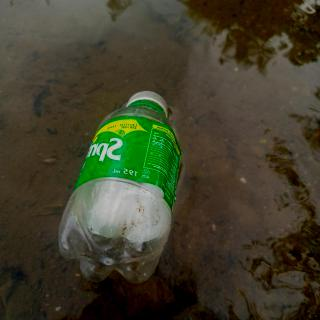bottle: (57, 90, 183, 286)
